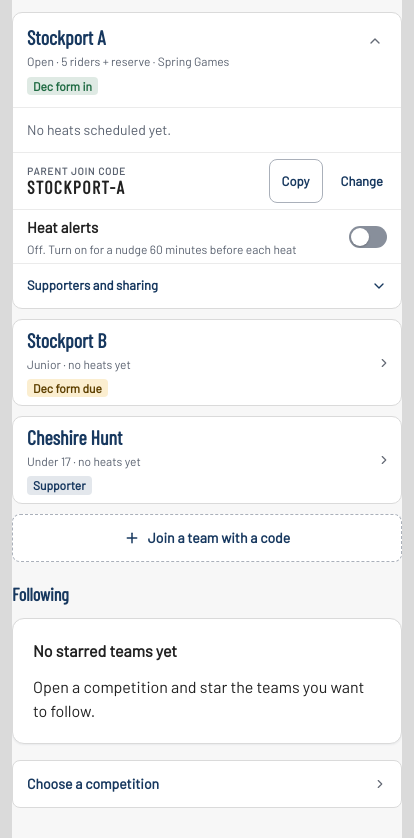
MyTeamsPage layout › shows the server’s reason when a code is refused
The image size is (414, 838).
Click the button "Change".
click(362, 181)  # box [331,159,393,203]
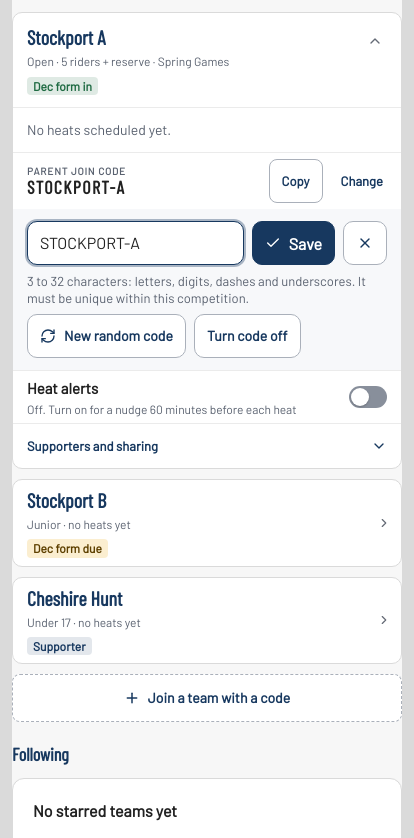
Click the button "Save".
click(293, 243)  # box [252,221,335,265]
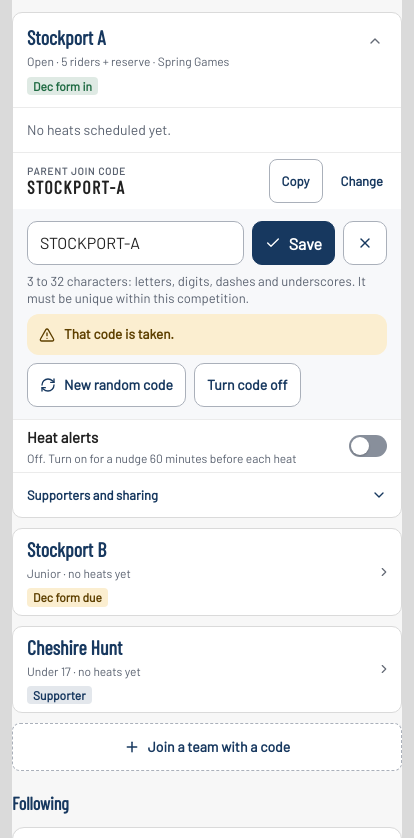
Expected: the message reads "That code is taken.", [64,325,174,342]
